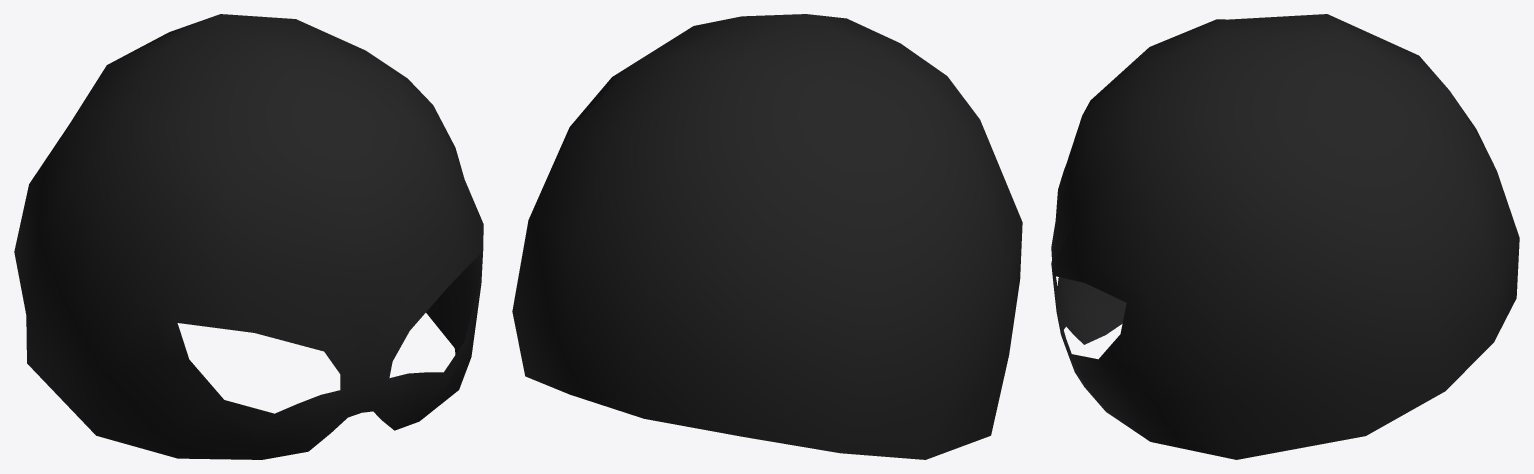
The model's file is Hat_093.glb.
The picture shows the model from 3 angles, left to right: view 1: azimuth 30°, elevation 25°; view 2: azimuth 150°, elevation 25°; view 3: azimuth 270°, elevation 25°; orthographic projection. The views are drawn at different scales.
Parts seen in each view (by area): view 1: Hat_093; view 2: Hat_093; view 3: Hat_093.
Part boxes in pixels (x1,y1,x2,y2): Hat_093: [14, 14, 483, 459]; Hat_093: [512, 14, 1022, 459]; Hat_093: [1051, 14, 1519, 459].
Bounding box in the file's own units: 0.4606 × 0.3799 × 0.4758.
Materials: 1 (1 with a texture image).
